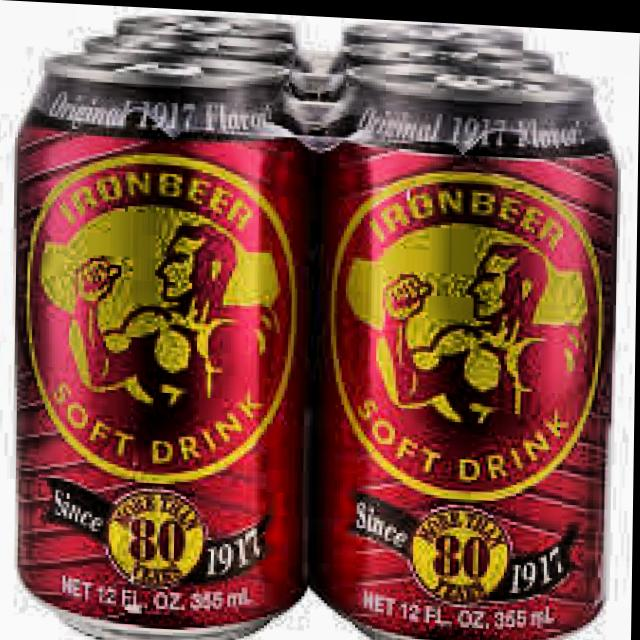can: (8, 42, 317, 640), (311, 50, 620, 640), (68, 27, 319, 83), (323, 36, 564, 91), (335, 14, 530, 56), (107, 5, 300, 44)
